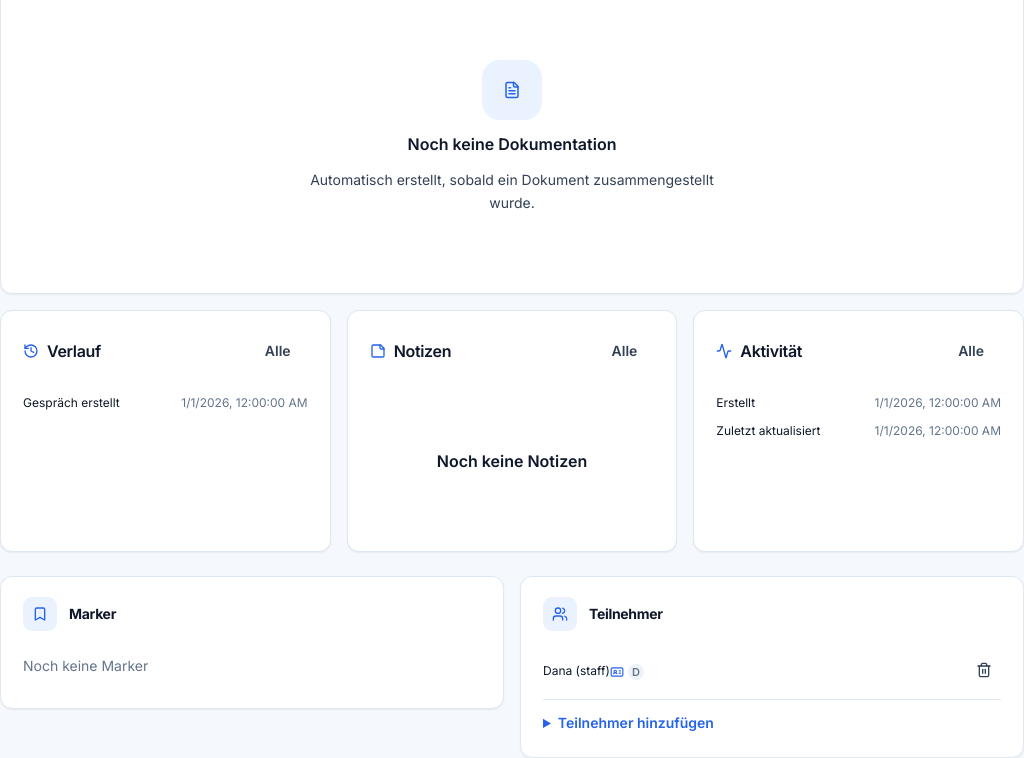
ConversationDetailPage — participants from the user directory › does not offer the registered-user source without user:read-directory
This screenshot has width=1024, height=758.
(page scrolled)
Click the heading "Teilnehmer hinzufügen": (636, 723) [558,714,714,731]
(page scrolled)
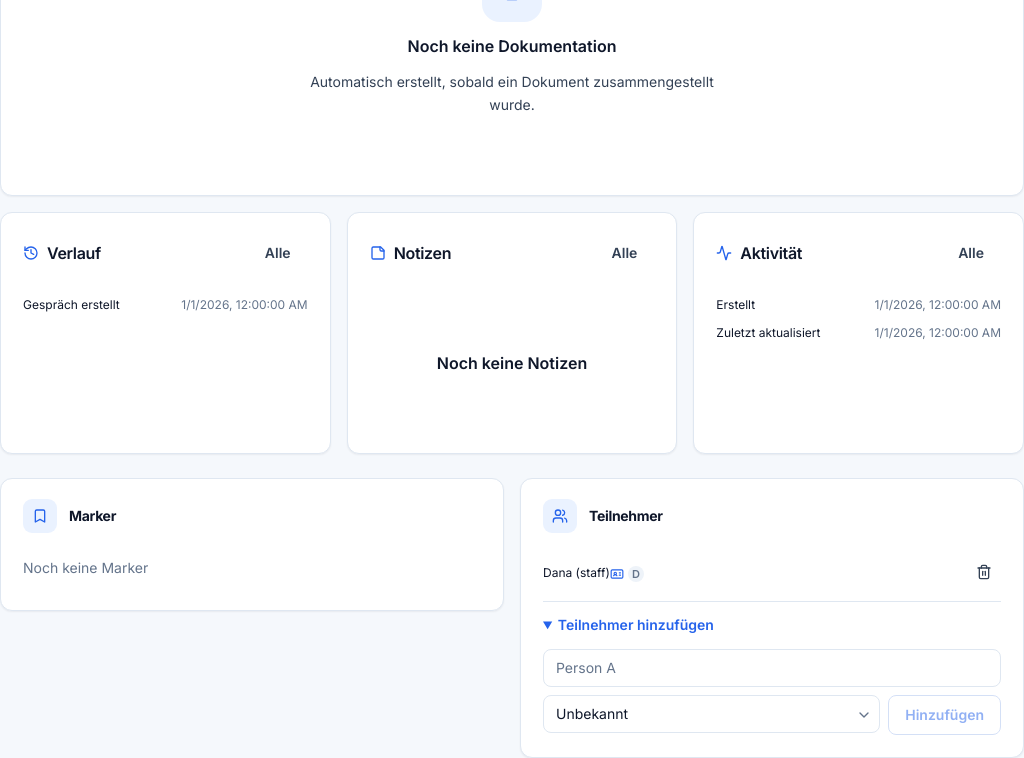
Expected: the field named "Teilnehmername" is shown, [543,649,1001,687]
